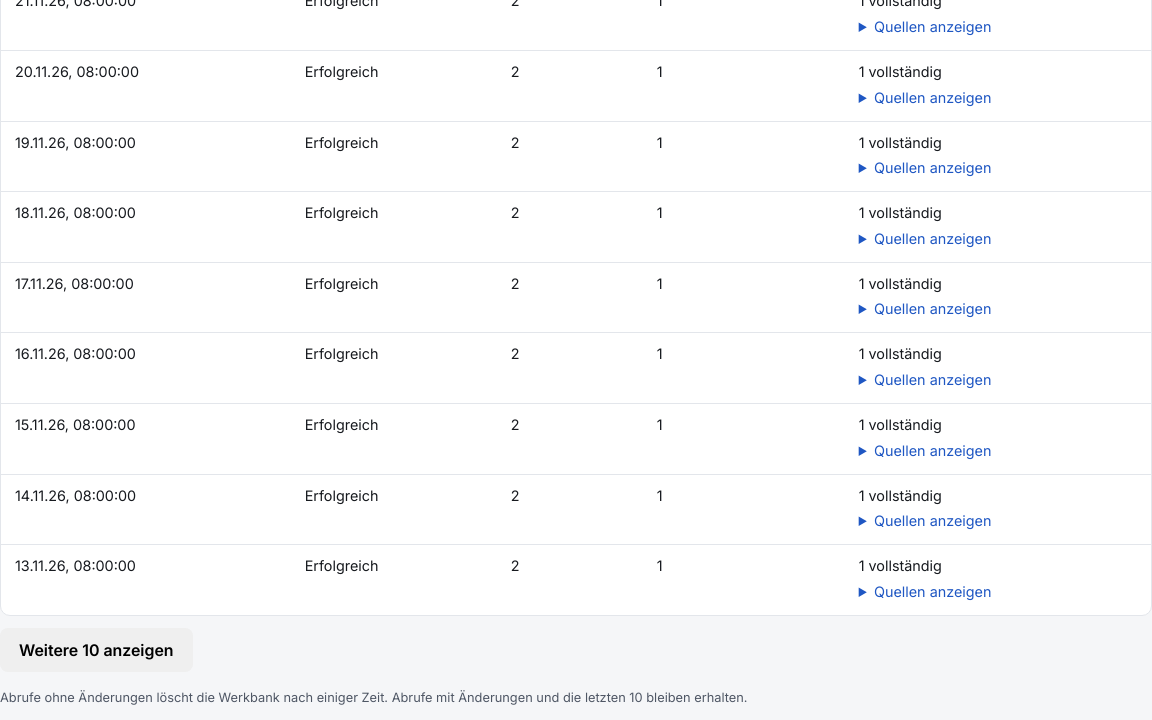
Test: SnapshotsPage › zeigt zuerst 10 Abrufe und lädt weitere nach
(page scrolled)
Click the button "Weitere 10 anzeigen": point(96, 650) [0, 628, 192, 672]
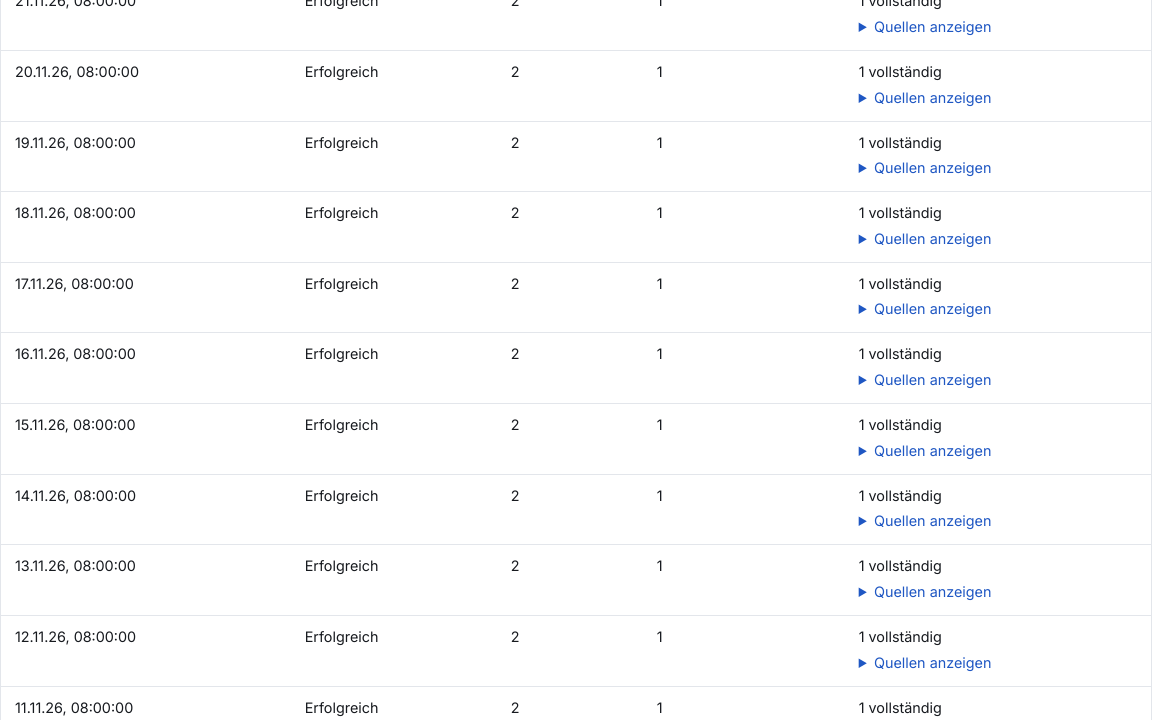
Expected: the button "Weitere 10 anzeigen" is gone
